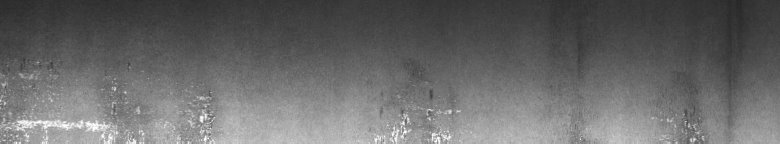hc: (384, 90, 461, 136)
